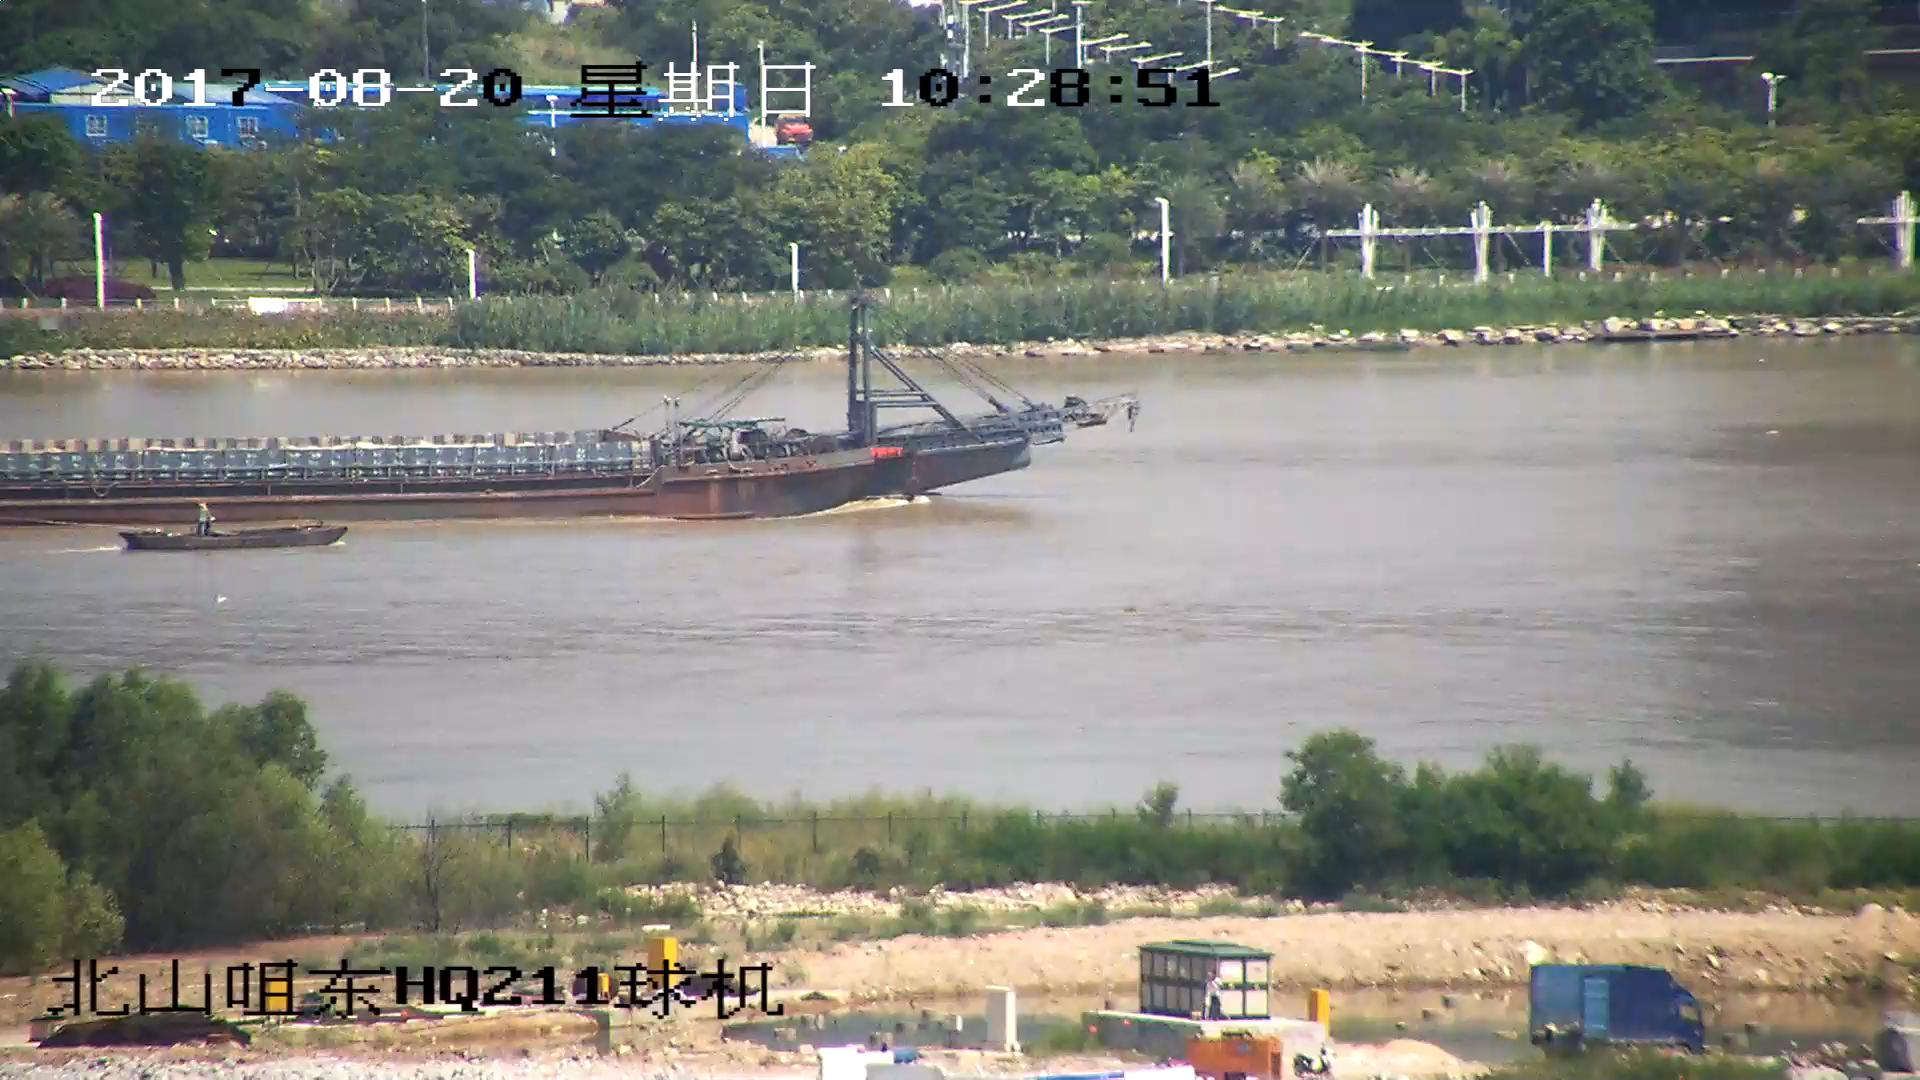fishing boat: (114, 507, 351, 554)
ore carrier: (1, 288, 1129, 530)
